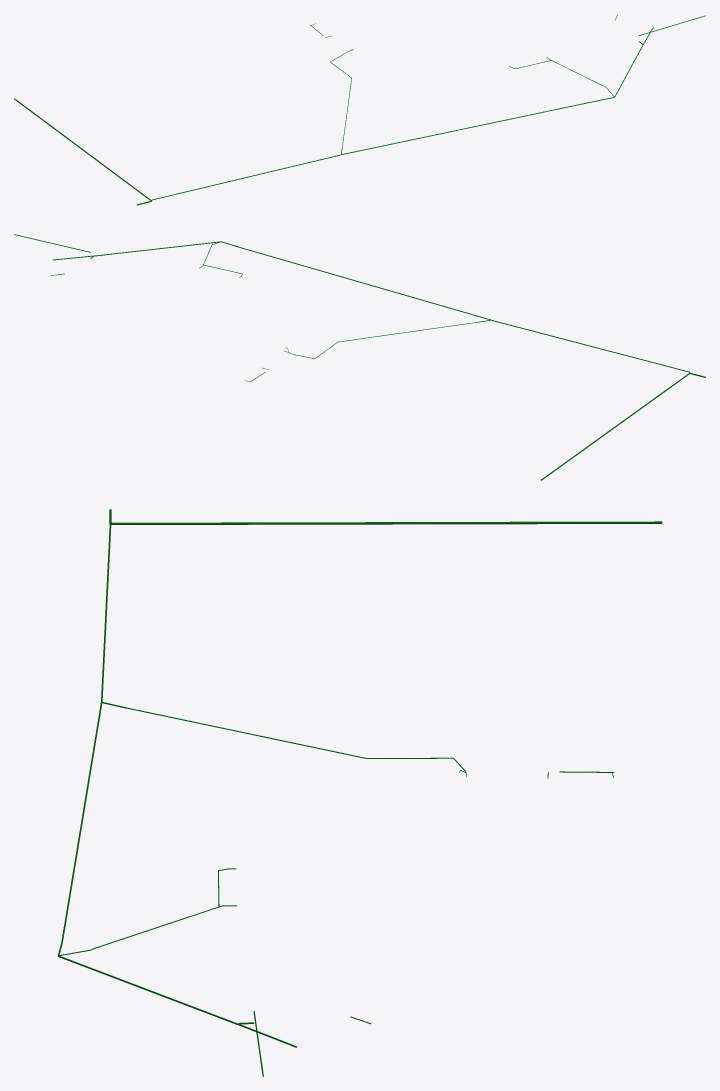
The model's file is 20370f79-c81e-4acb-b9c7-dd617b600066.glb.
3 views of the same model, one above another, from view 1: azimuth 30°, elevation 25°; view 2: azimuth 150°, elevation 25°; view 3: azimuth 270°, elevation 25° (orthographic). The views are drawn at different scales.
Visible parts, largest first — view 1: 483; view 2: 483; view 3: 475.
Part boxes in pixels (x1,y1,x2,y2): 483: (341, 100, 599, 154); 483: (235, 246, 490, 319); 475: (111, 521, 662, 524).
Bounding box in the file's own units: 237 × 6.85 × 102.
